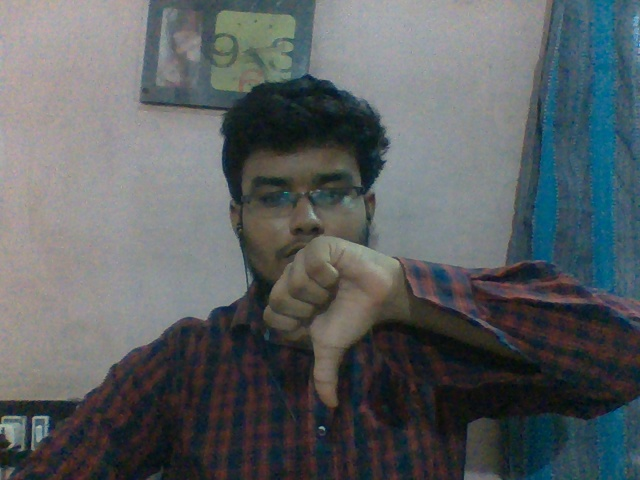ThumbsDown: (262, 234, 386, 412)
